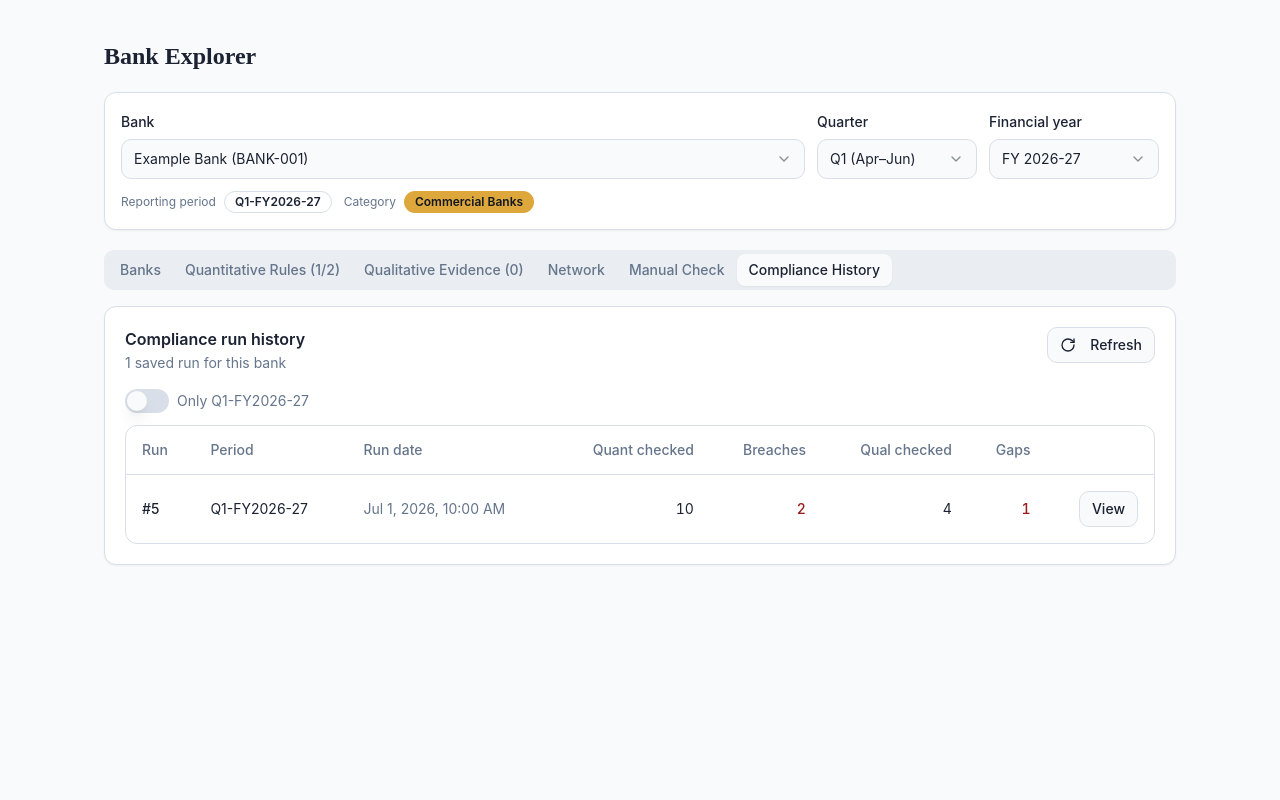
Test: CompliancePage › lists history and opens a saved run
The width and height of the screenshot is (1280, 800).
Expected: the text "#5" is shown, [126, 474, 194, 542]
Click the button "View" at (1108, 508), box [1079, 490, 1138, 526]
(page scrolled)
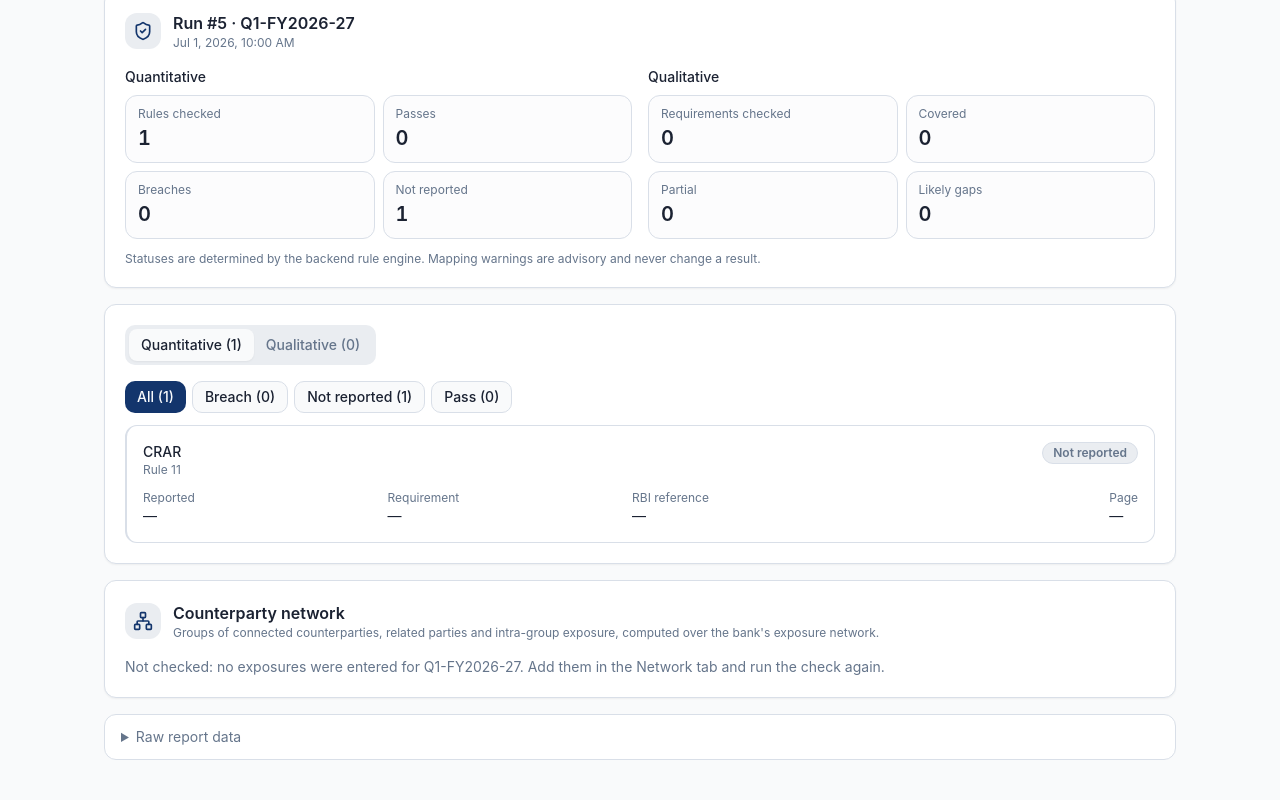
Result: the heading "Run #5 · Q1-FY2026-27" is shown at [173, 11, 355, 35]
Result: the text "Not reported" in the row of "CRAR" is shown at [1053, 445, 1127, 460]
